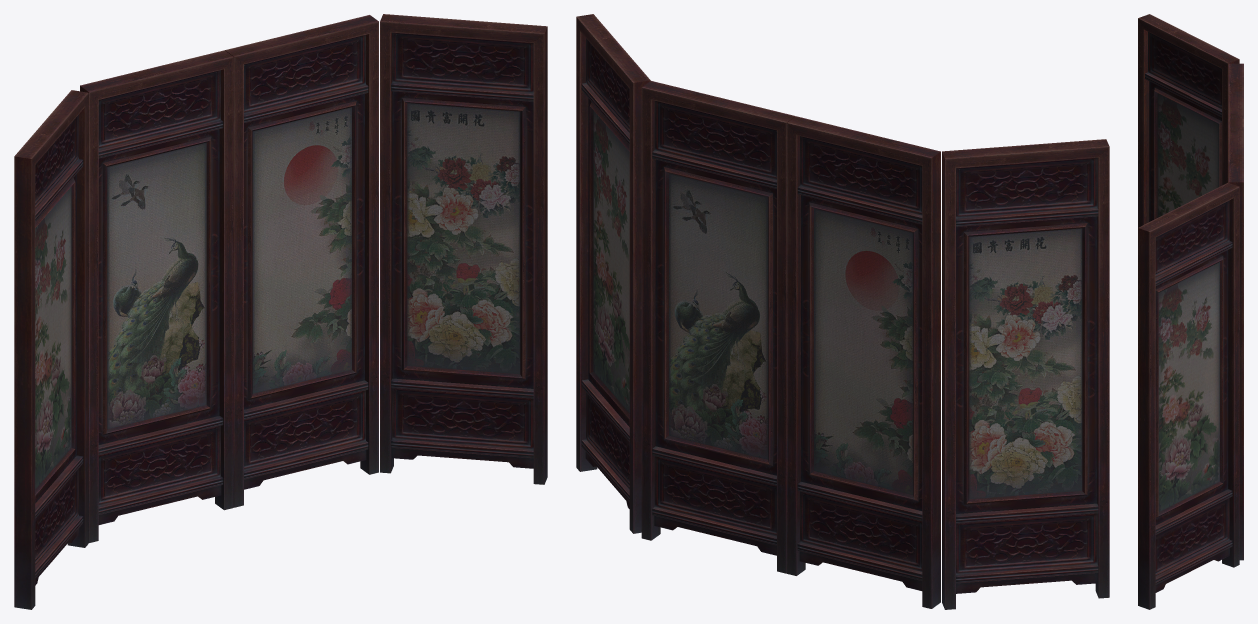
File: Peony Screen.fbx
The picture shows the model from 3 angles, left to right: view 1: azimuth 30°, elevation 25°; view 2: azimuth 150°, elevation 25°; view 3: azimuth 270°, elevation 25°; orthographic projection. The views are drawn at different scales.
Parts seen in each view (by area): view 1: ping_feng; view 2: ping_feng; view 3: ping_feng.
Boxes of the visible parts, bbox=[...] form: ping_feng: bbox=[14, 14, 547, 609]; ping_feng: bbox=[576, 14, 1109, 609]; ping_feng: bbox=[1138, 14, 1243, 609].
Size of the model in its own units: 180 by 146 by 37.07.
Materials: 1 (1 with a texture image).
